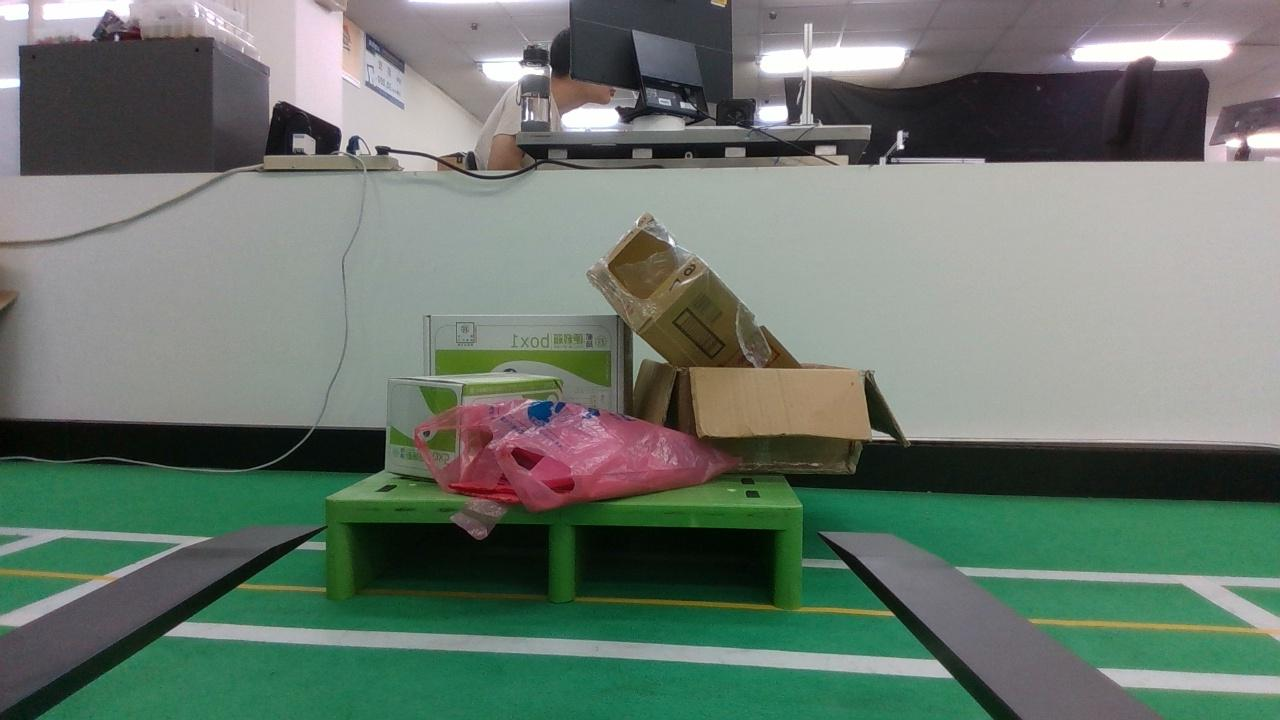Pallet: (325, 499, 805, 609)
